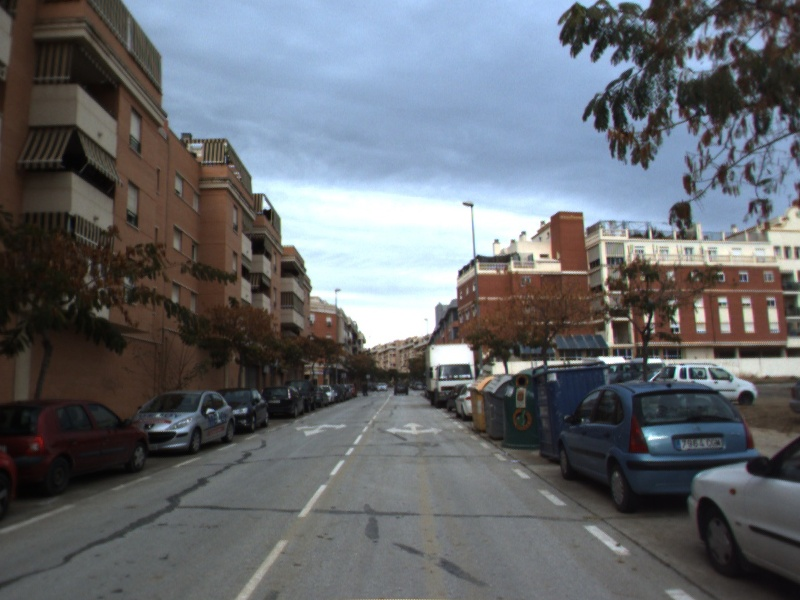STRAIGHT_LEFT_RIGHT: (383, 419, 445, 437)
